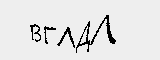В: (28, 22, 41, 46)
Г: (42, 24, 58, 49)
Д: (73, 20, 93, 54)
Л: (91, 14, 119, 46), (56, 23, 76, 52)
